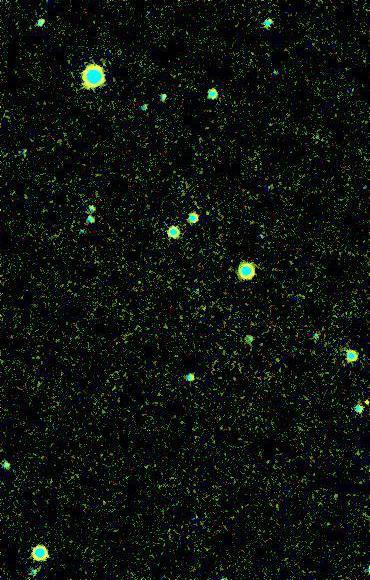star: (351, 388, 370, 418)
